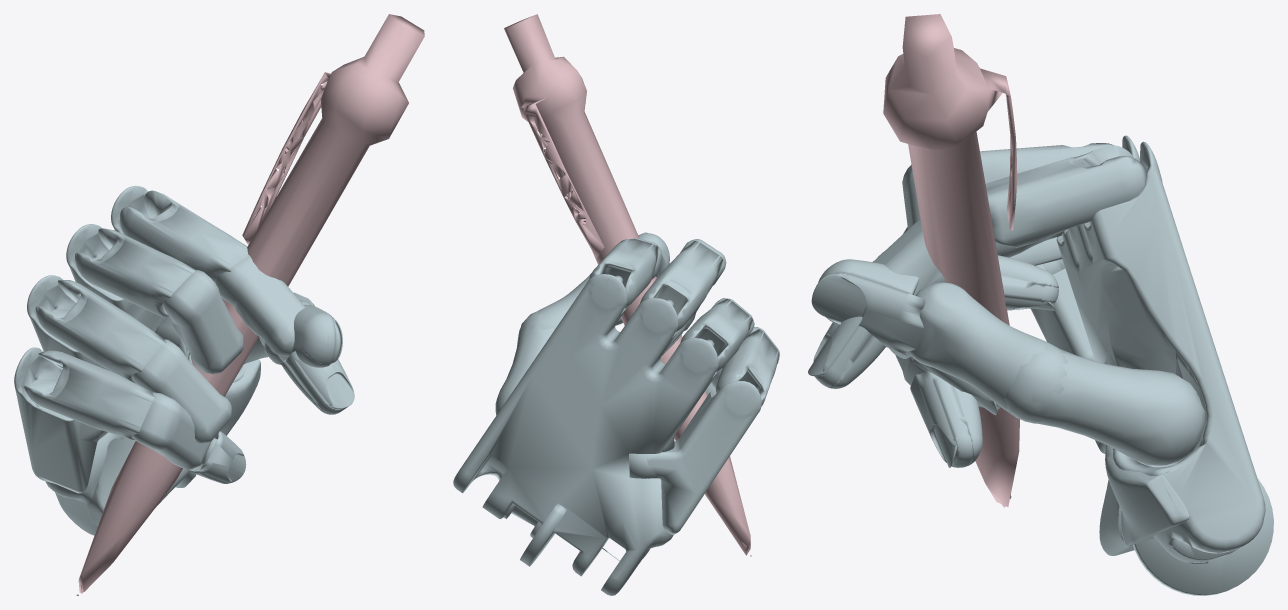
3 renders of one model, left to right at view 1: azimuth 30°, elevation 25°; view 2: azimuth 150°, elevation 25°; view 3: azimuth 270°, elevation 25°, orthographic. The views are drawn at different scales.
Visible parts, largest first — view 1: world; view 2: world; view 3: world.
Part boxes in pixels (left/top/right/bottom): world: left=14, top=14, right=424, bottom=595; world: left=453, top=14, right=779, bottom=595; world: left=808, top=14, right=1273, bottom=595.
Size of the model in its own units: 0.1395 by 0.2045 by 0.1264.
